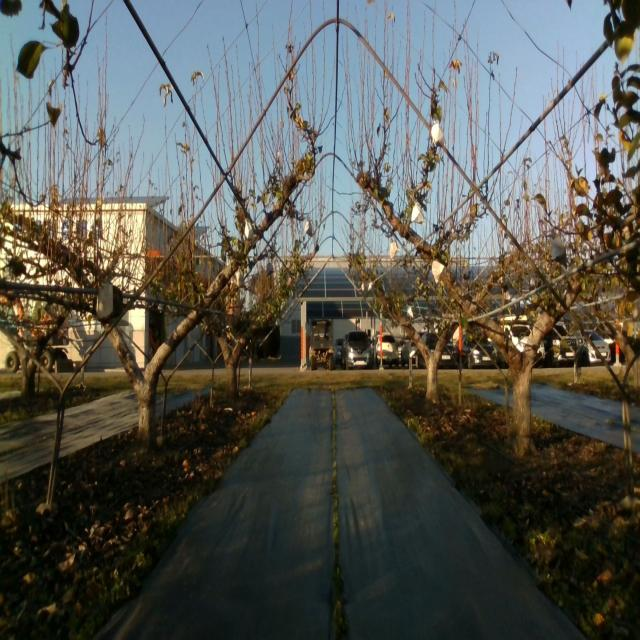pearbags: (550, 234, 566, 266), (431, 121, 446, 148), (411, 202, 424, 225), (432, 260, 444, 284)
